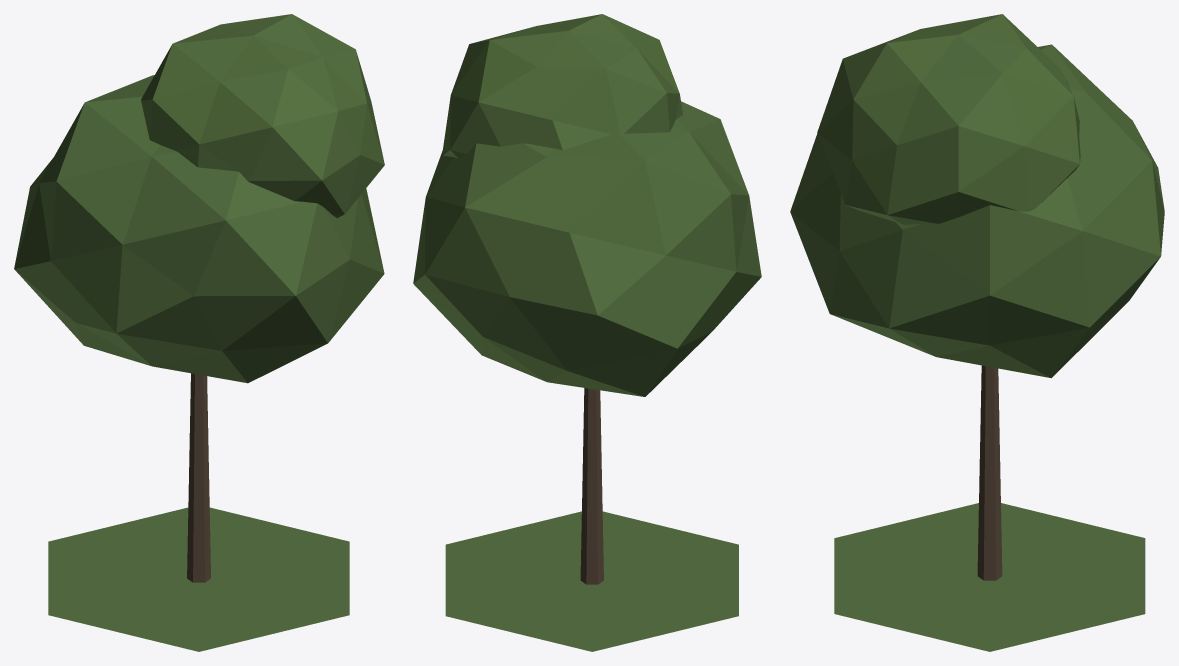
The model's file is tree_deciduous.glb.
3 views of the same model, side by side, from view 1: azimuth 30°, elevation 25°; view 2: azimuth 150°, elevation 25°; view 3: azimuth 270°, elevation 25° (orthographic). The views are drawn at different scales.
Parts seen in each view (by area): view 1: tree_deciduous, tree_deciduous_lodfar; view 2: tree_deciduous, tree_deciduous_lodfar; view 3: tree_deciduous, tree_deciduous_lodfar.
Part boxes in pixels (x1,y1,x2,y2): tree_deciduous: [14, 14, 384, 582]; tree_deciduous_lodfar: [48, 507, 349, 651]; tree_deciduous: [413, 14, 761, 584]; tree_deciduous_lodfar: [445, 511, 738, 651]; tree_deciduous: [790, 14, 1164, 580]; tree_deciduous_lodfar: [834, 503, 1145, 651].
Bounding box in the file's own units: 4.84 × 7.98 × 4.8.
